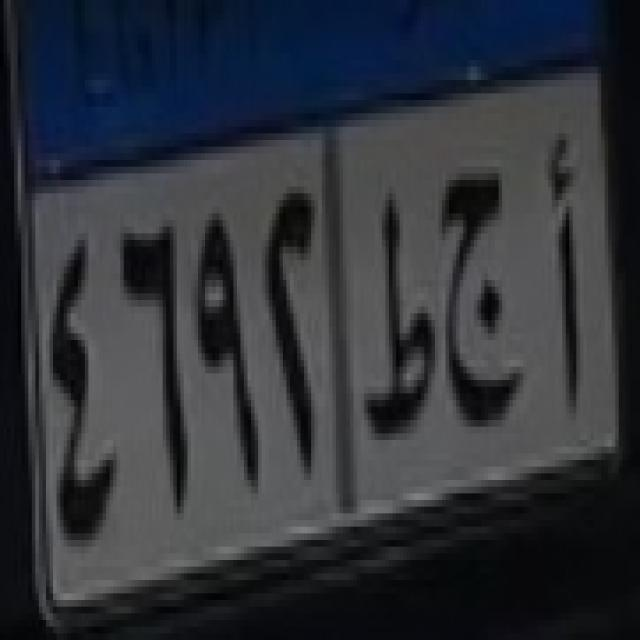2: (262, 181, 330, 485)
4: (44, 230, 124, 556)
6: (108, 230, 204, 524)
9: (194, 220, 261, 512)
Taa: (362, 188, 442, 442)
alef: (542, 134, 600, 442)
geem: (438, 170, 528, 428)
